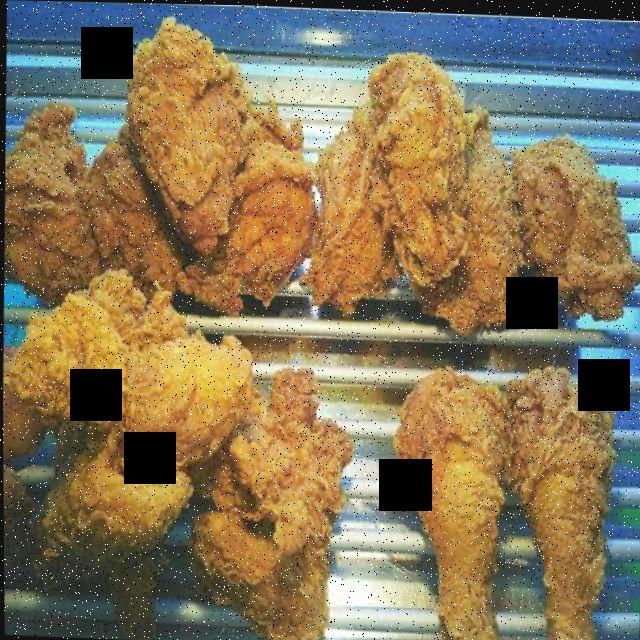Frango: (497, 358, 616, 640), (390, 362, 508, 640), (120, 10, 247, 255), (508, 99, 640, 316), (360, 43, 475, 291), (179, 97, 314, 303), (411, 117, 524, 336), (295, 113, 398, 319), (4, 96, 97, 304)
